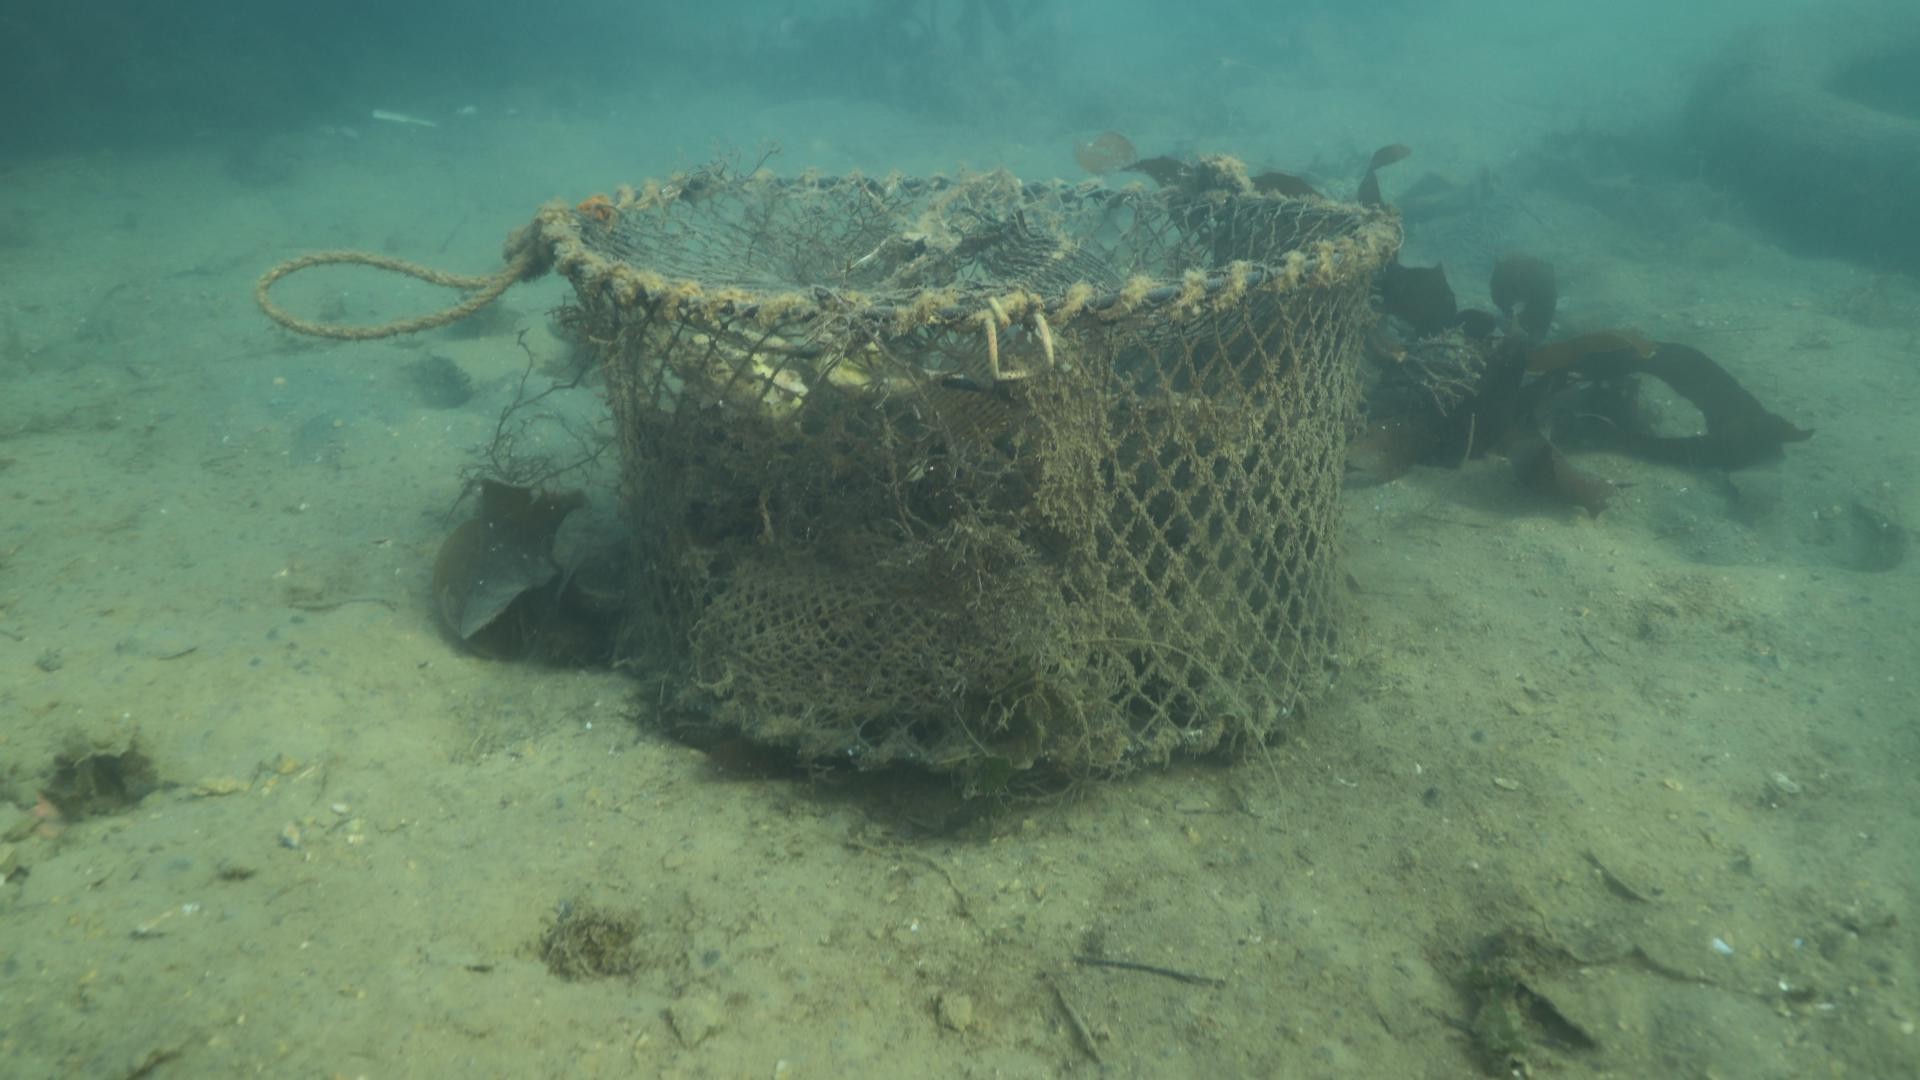circular fish trap: (533, 170, 1404, 782)
rope: (251, 247, 524, 347)
